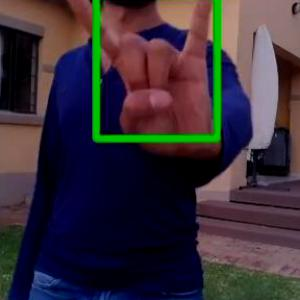takeoff-hand: (57, 0, 217, 141)
